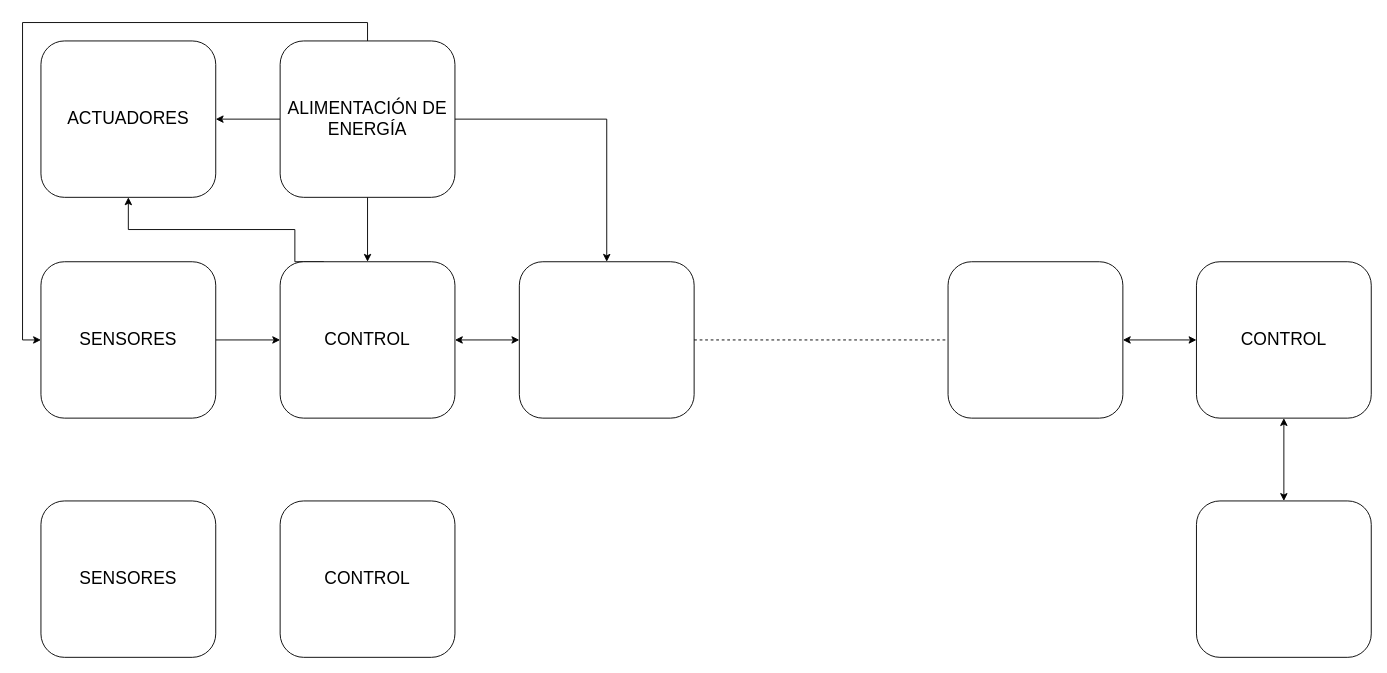
Some shapes in this 1387 by 673 pixel diagram are drawn without their labels. Each missing label, with the centre of its shape:
"COMUNICACIÓN CANSAT" belongs at point (606, 339).
"COMUNICACIÓN ESTACIÓN TERRENA" belongs at point (1035, 339).
"INTERFAZ (GUI)" belongs at point (1283, 578).
